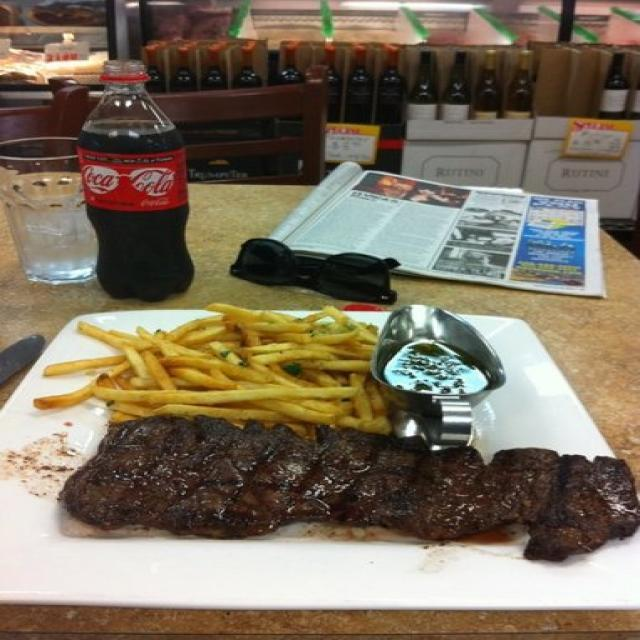French fries: (82, 306, 380, 420)
Steak: (65, 418, 639, 549)
